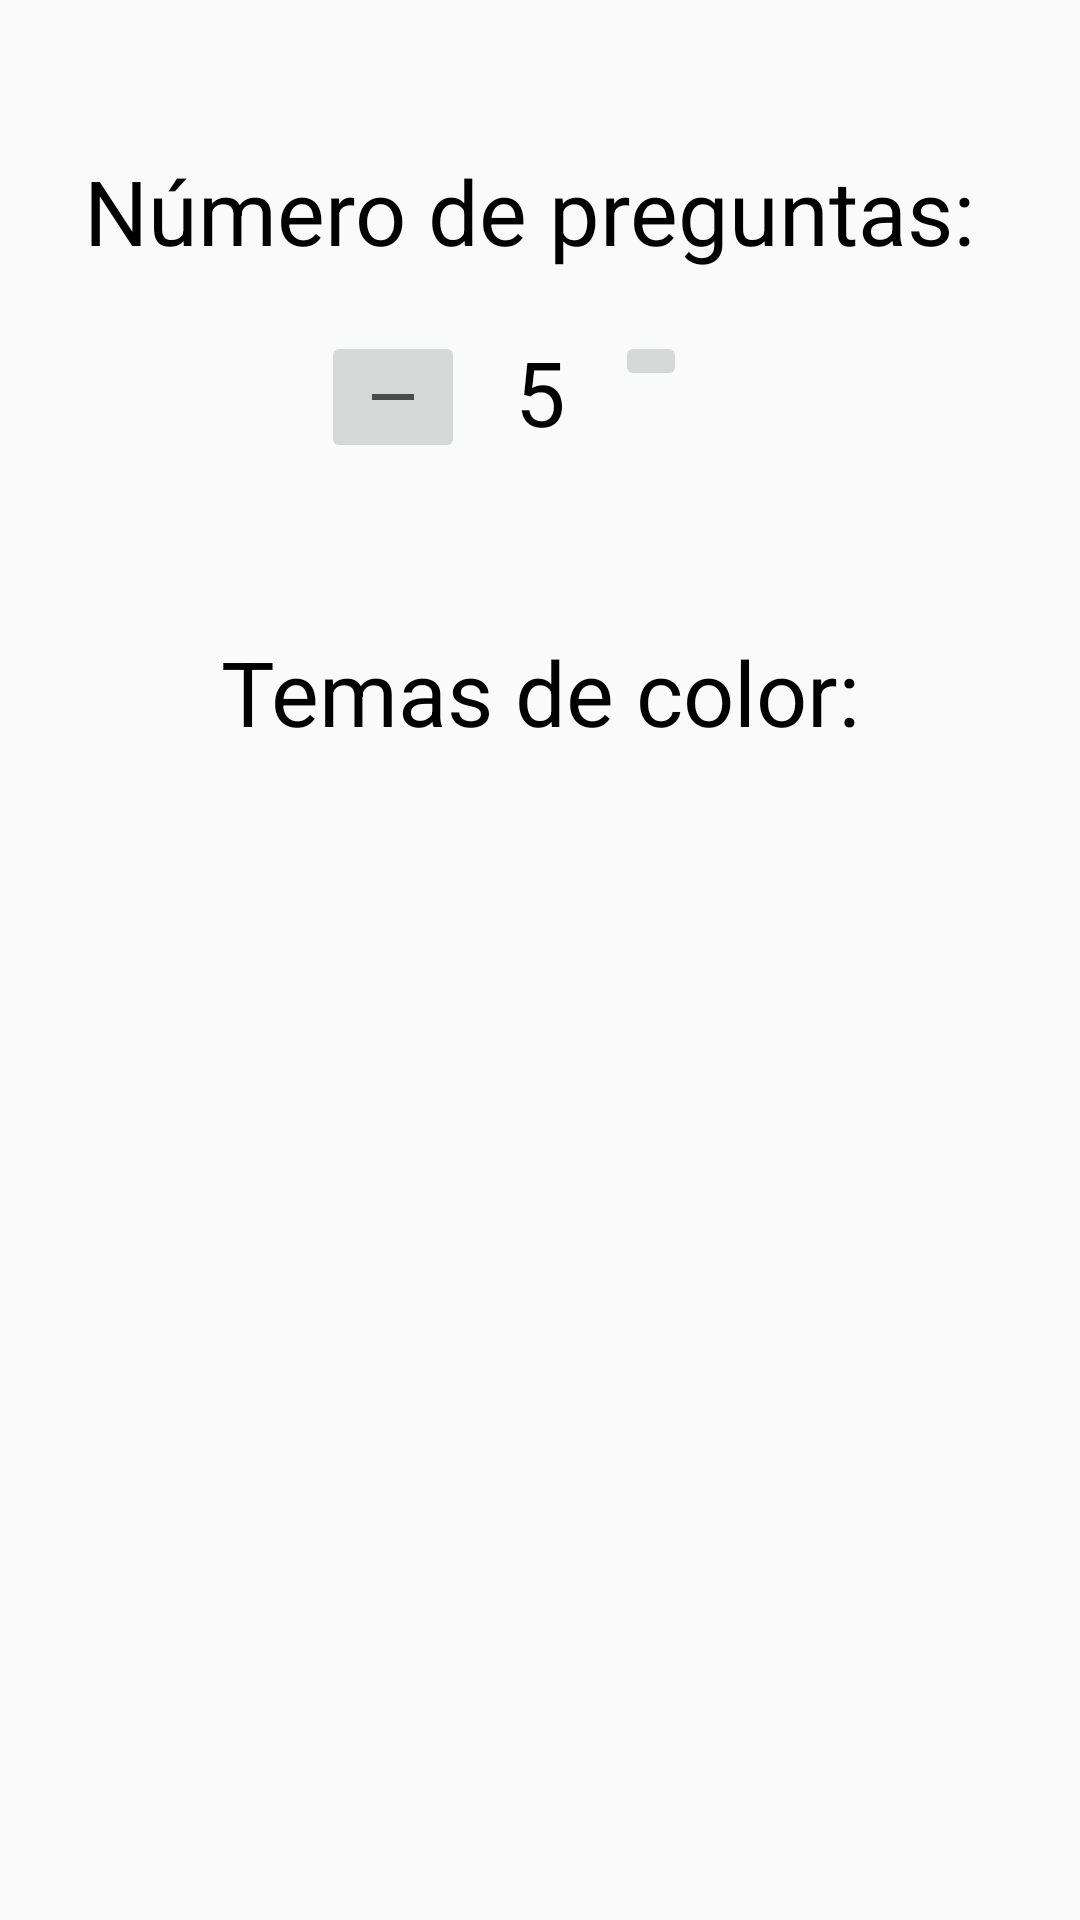

Icons on this 1080×1920 Android screen, each with its box as (x1, y1, x2, y2):
remove: (333, 349, 453, 445)
